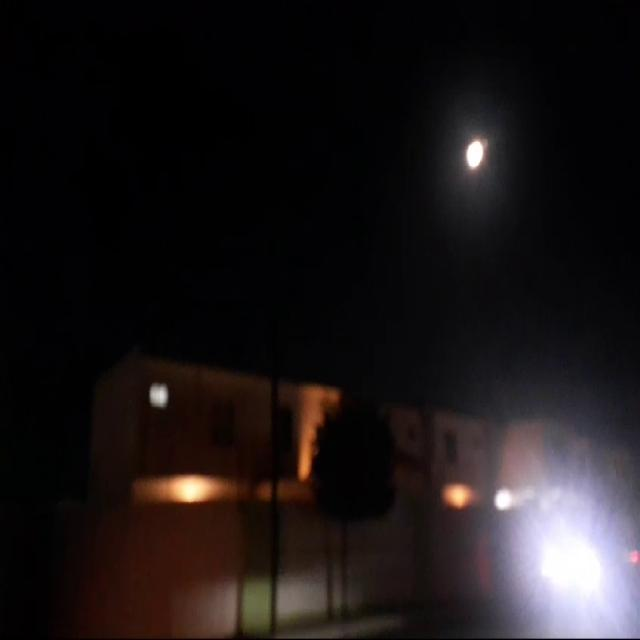moon: (463, 138, 483, 172)
